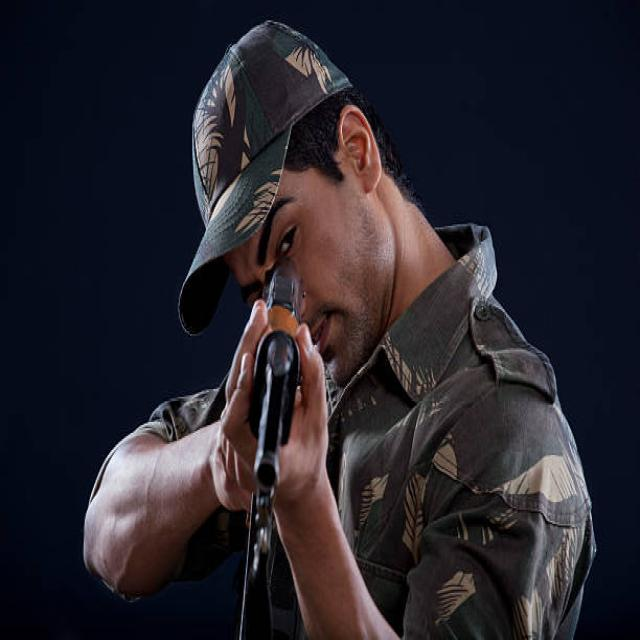soldier: (76, 17, 599, 640)
